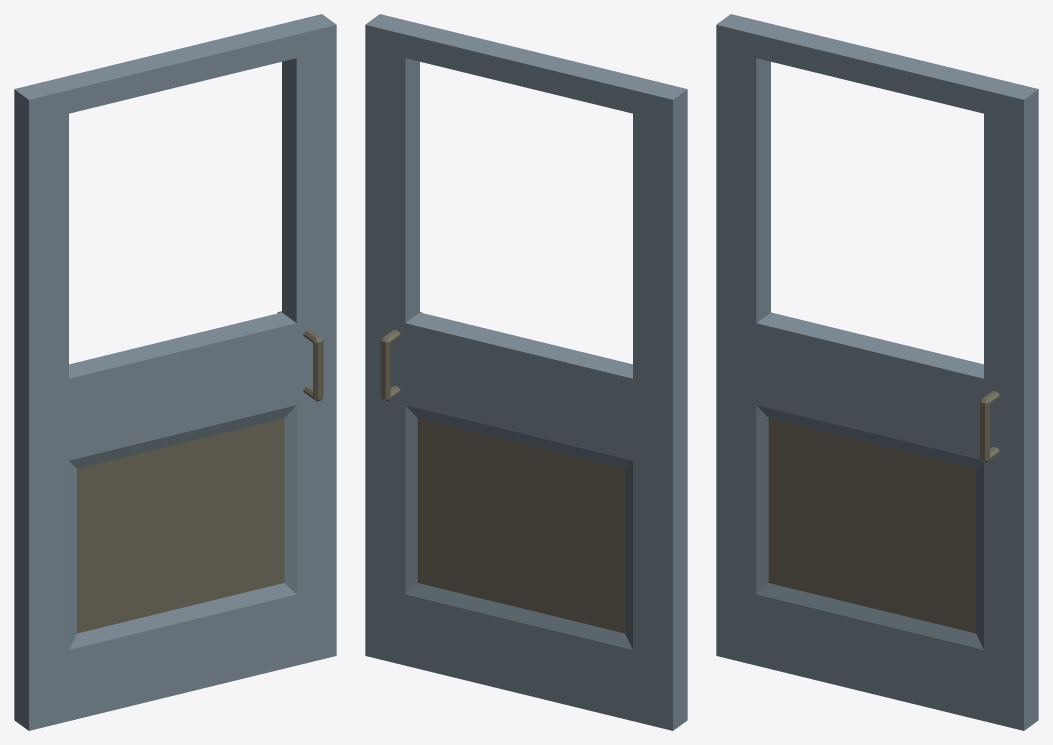
Rendered from door_01.glb.
3 renders of one model, left to right at view 1: azimuth 30°, elevation 25°; view 2: azimuth 150°, elevation 25°; view 3: azimuth 330°, elevation 25°, orthographic.
Visible parts, largest first — view 1: Door_01; view 2: Door_01; view 3: Door_01.
Part boxes in pixels (x1,y1,x2,y2): Door_01: [14, 14, 336, 730]; Door_01: [365, 14, 687, 730]; Door_01: [716, 14, 1038, 730].
Size of the model in its own units: 1.16 by 2.28 by 0.258.
Materials: 1 (1 with a texture image).
